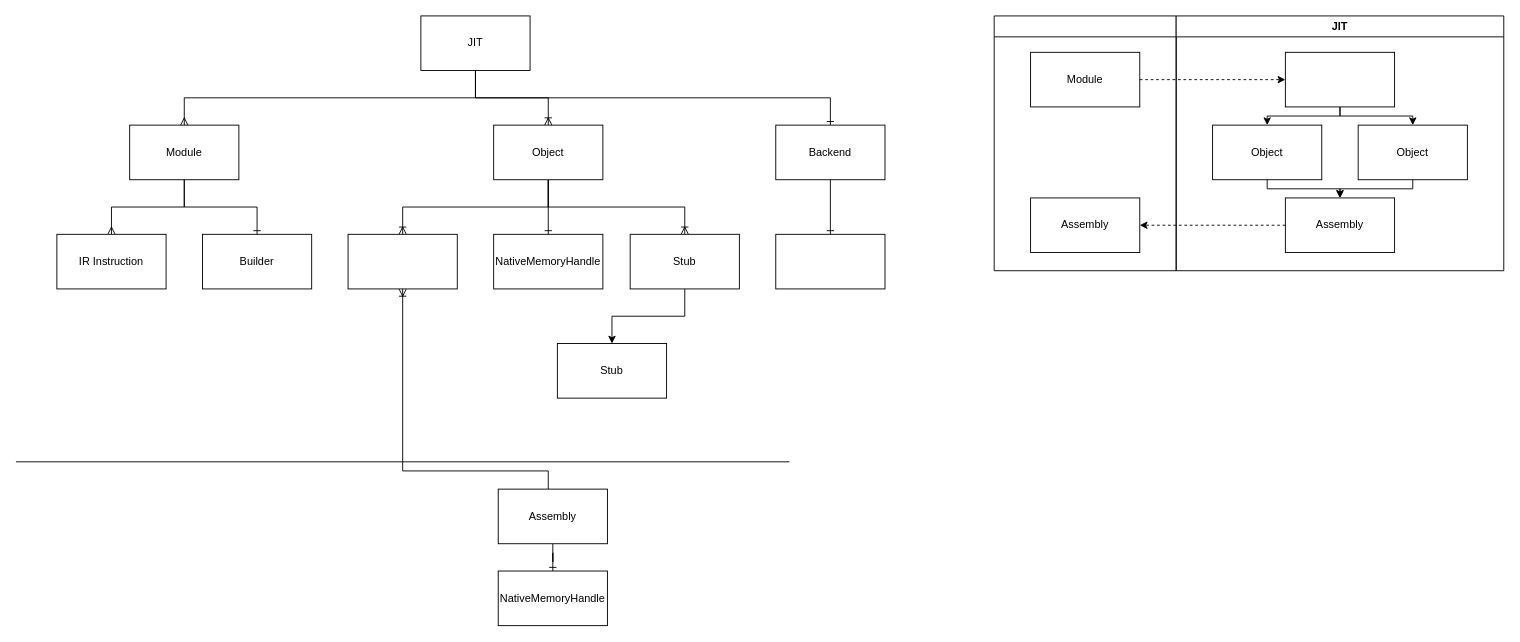
Image size: 1520x642. Some labels were removed from this diagram. The box of each missing label's shape, as (x1, y1, x2, y2) in pixels:
IR Translator: (775, 233, 885, 289)
Modules: (1284, 51, 1395, 107)
Symbol: (347, 233, 457, 289)
User: (993, 15, 1176, 271)
